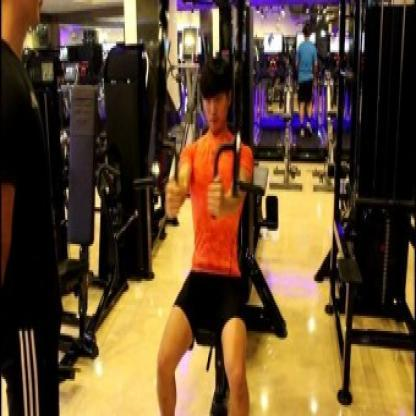chest fly machine: (118, 0, 300, 416)
